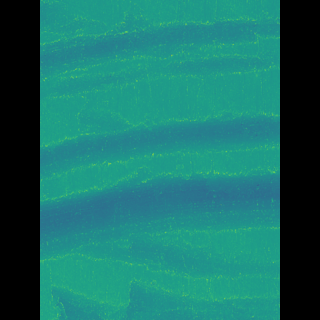Loch: (68, 163, 251, 269), (70, 0, 250, 98), (69, 108, 250, 186), (77, 272, 250, 320)
